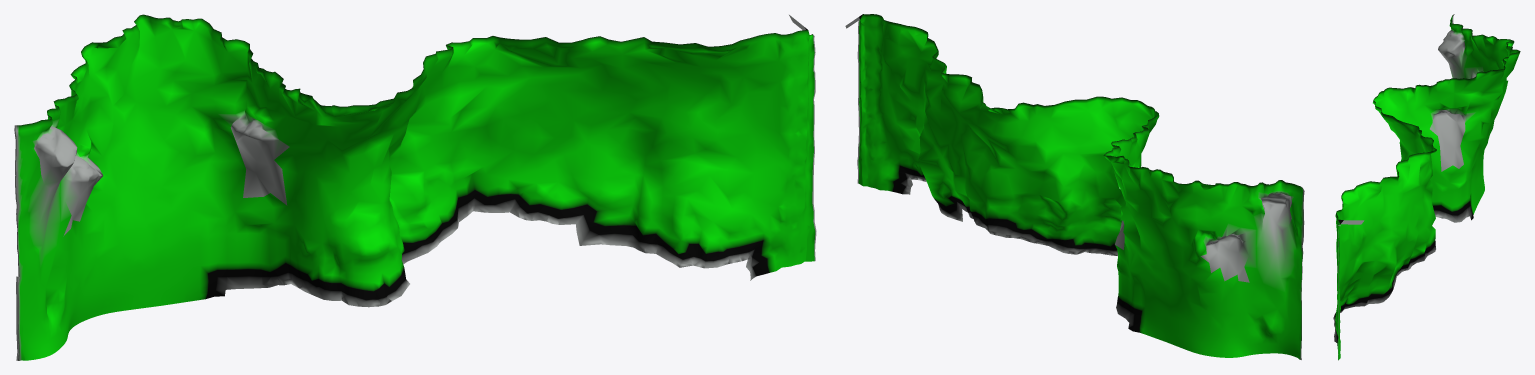
The picture shows the model from 3 angles, left to right: view 1: azimuth 30°, elevation 25°; view 2: azimuth 150°, elevation 25°; view 3: azimuth 270°, elevation 25°; orthographic projection. The views are drawn at different scales.
Visible parts, largest first — view 1: G:\FFXIV-MapTools\exports\k5f1\bg\ex4\03_kld_k5\fld\k5f1\bgp (×2); view 2: G:\FFXIV-MapTools\exports\k5f1\bg\ex4\03_kld_k5\fld\k5f1\bgp (×2); view 3: G:\FFXIV-MapTools\exports\k5f1\bg\ex4\03_kld_k5\fld\k5f1\bgp (×2).
Part boxes in pixels (<box>): G:\FFXIV-MapTools\exports\k5f1\bg\ex4\03_kld_k5\fld\k5f1\bgp (×2): <box>14,14,816,360</box>; G:\FFXIV-MapTools\exports\k5f1\bg\ex4\03_kld_k5\fld\k5f1\bgp (×2): <box>845,14,1304,359</box>; G:\FFXIV-MapTools\exports\k5f1\bg\ex4\03_kld_k5\fld\k5f1\bgp (×2): <box>1333,14,1520,360</box>.
Size of the model in its own units: 770 by 274 by 296.
